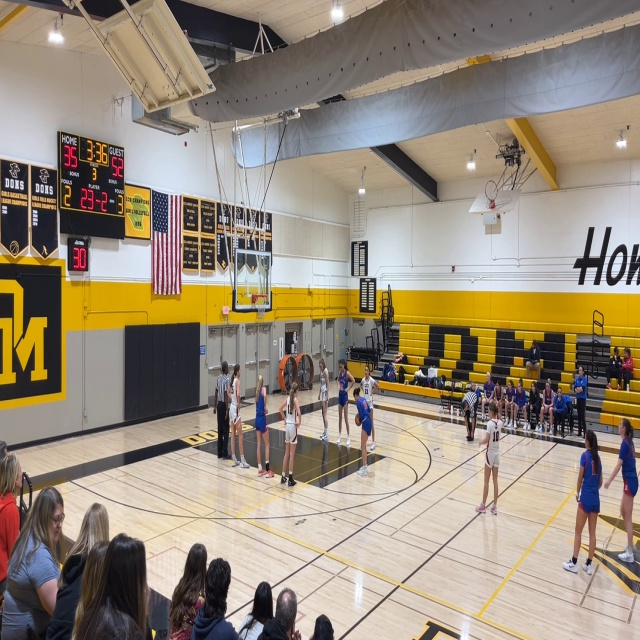Basketball: (355, 415, 361, 426)
